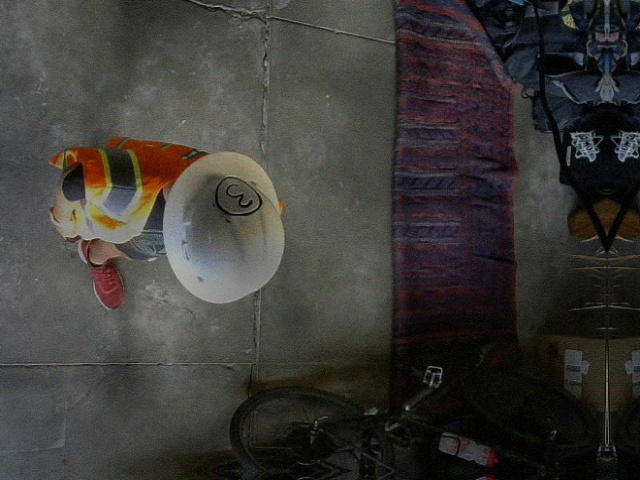three: (213, 176, 261, 214)
